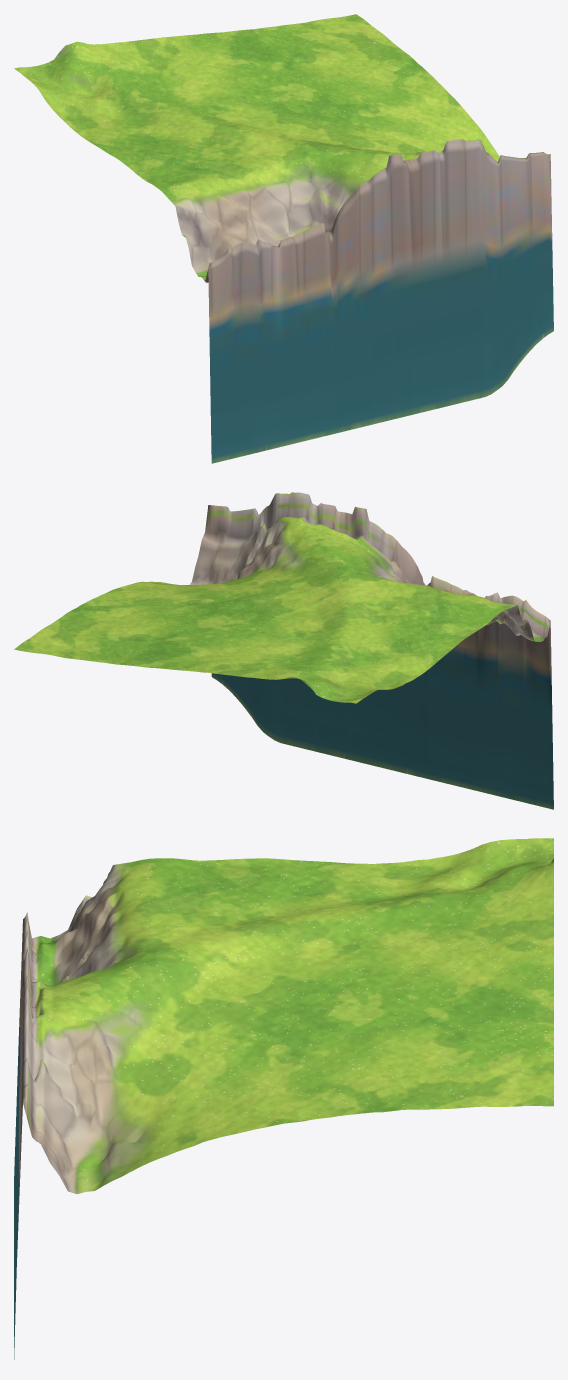
3 renders of one model, top to bottom at view 1: azimuth 30°, elevation 25°; view 2: azimuth 150°, elevation 25°; view 3: azimuth 270°, elevation 25°, orthographic. The views are drawn at different scales.
Parts seen in each view (by area): view 1: t064_000; view 2: t064_000; view 3: t064_000.
Boxes of the visible parts, x1,y1,x2,y2 form: t064_000: [14, 14, 553, 463]; t064_000: [14, 492, 553, 809]; t064_000: [14, 838, 553, 1359].
Size of the model in its own units: 64 by 46.84 by 64.
Materials: 1 (1 with a texture image).
